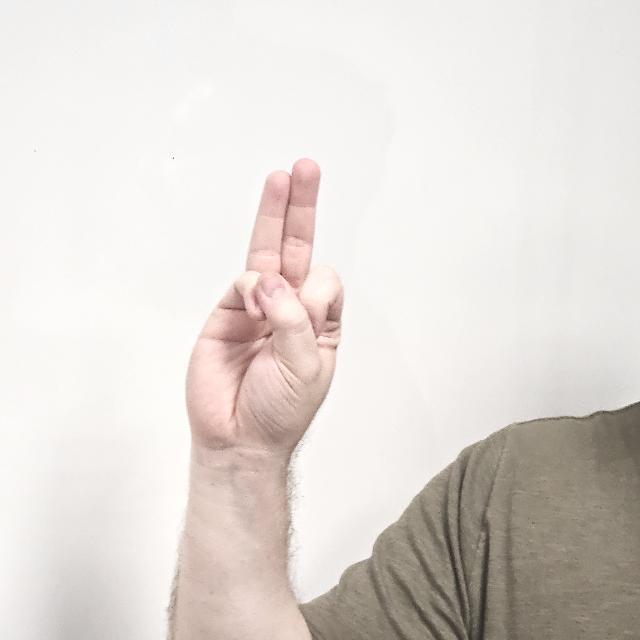R: (184, 158, 346, 486)
